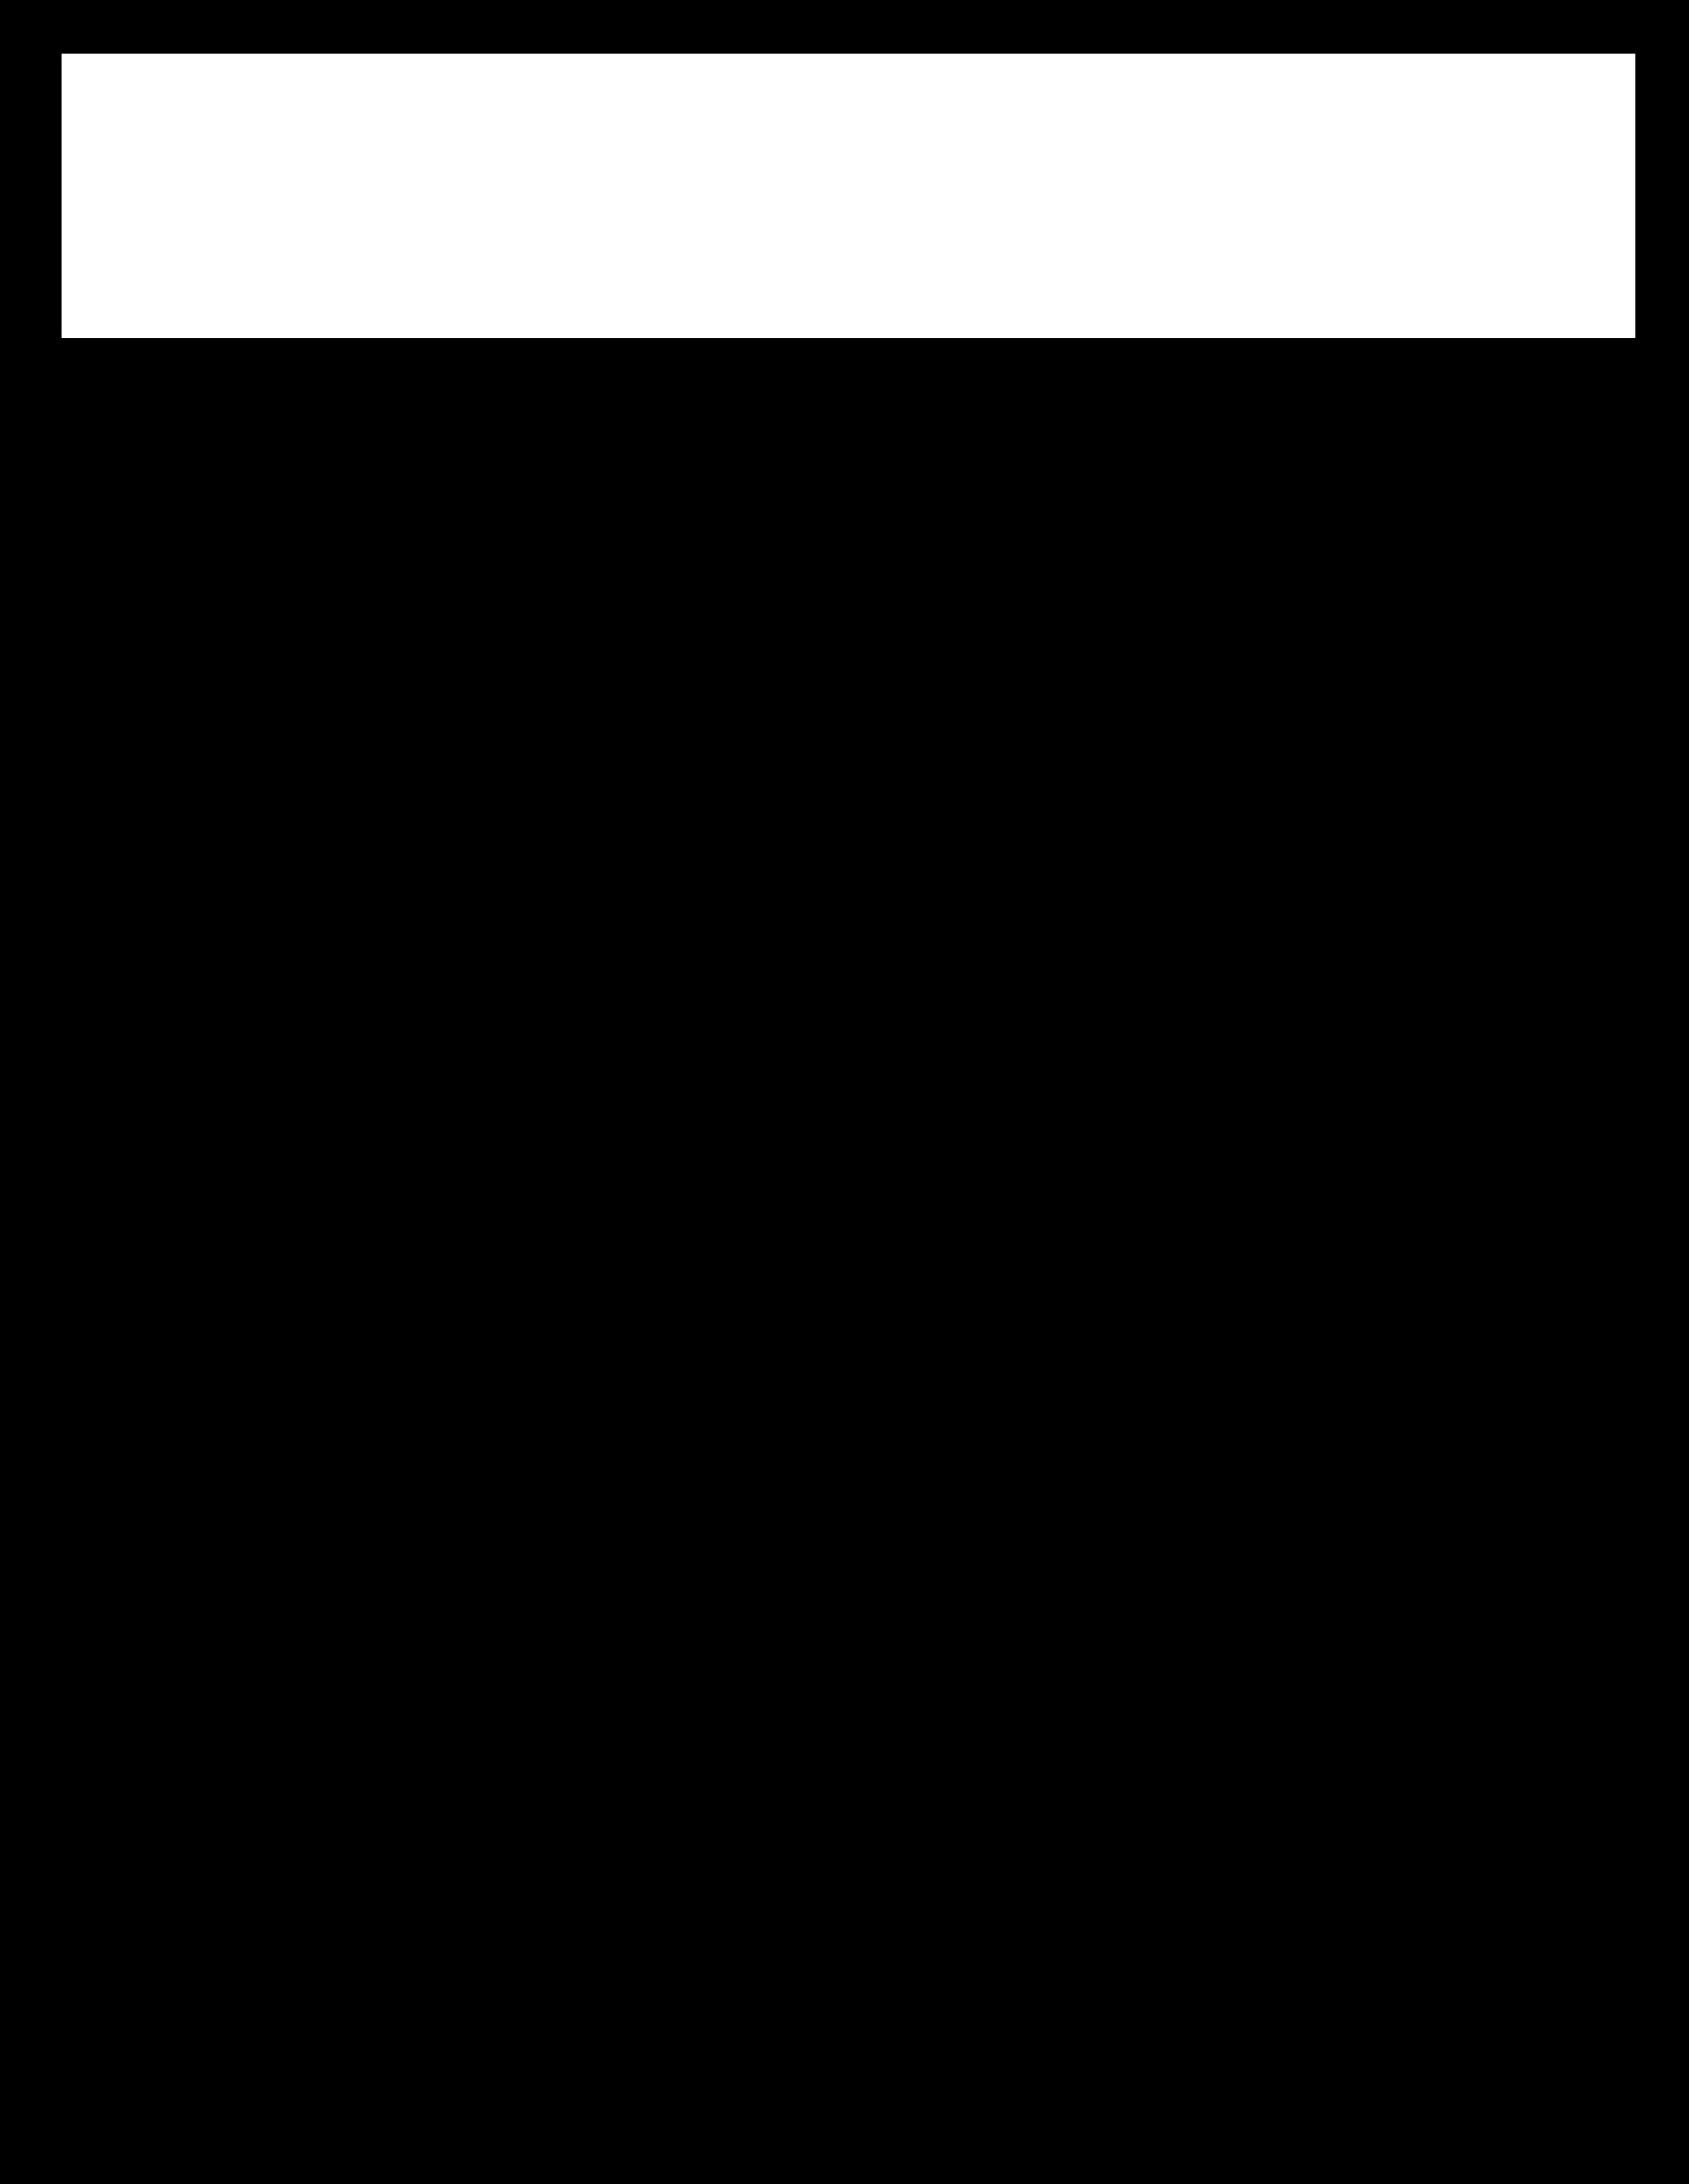table: (62, 53, 1634, 337)
